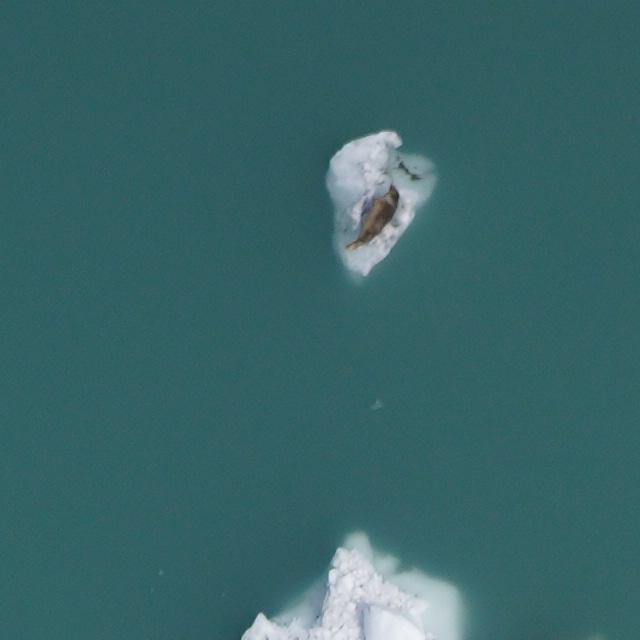seal: (338, 179, 407, 261)
